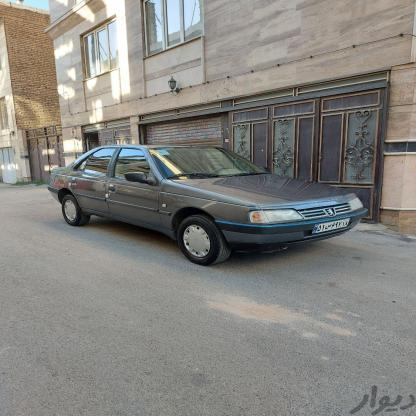Car: (41, 143, 370, 269)
